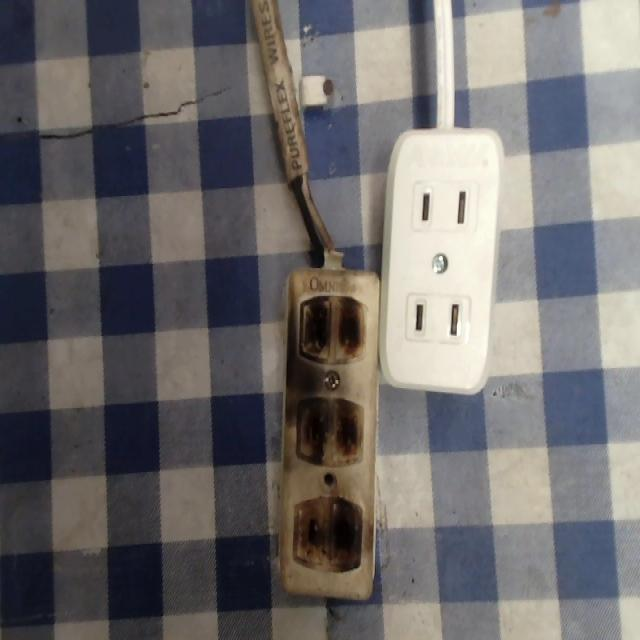-: (293, 493, 366, 584), (294, 390, 370, 470), (299, 287, 369, 373)
